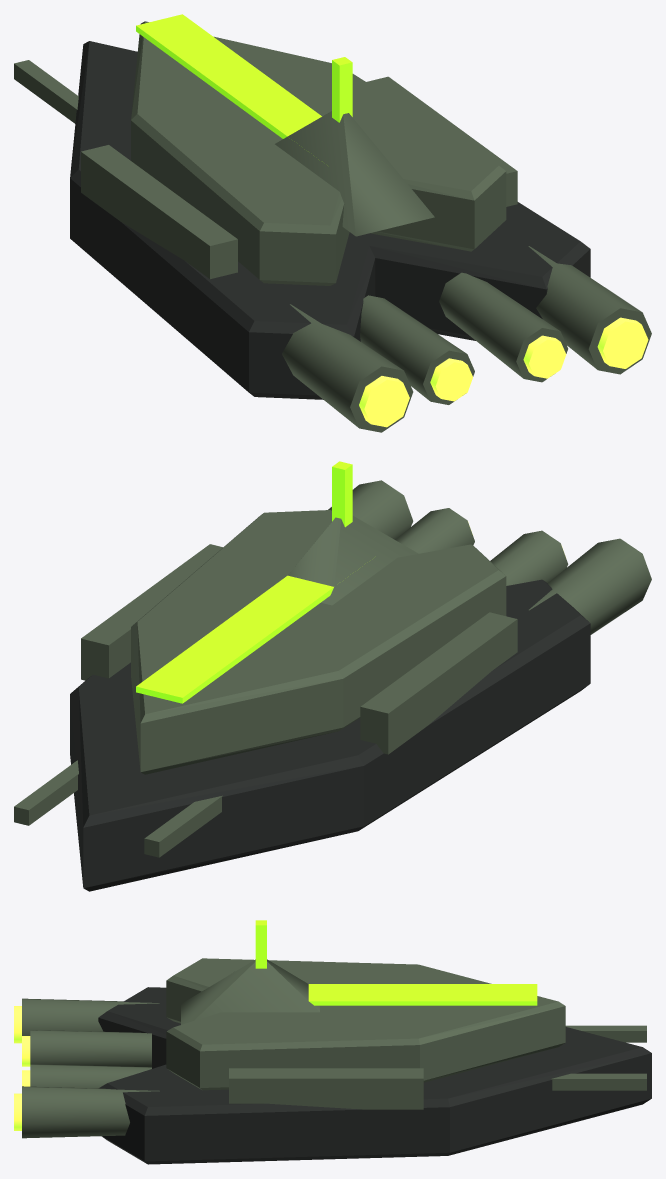
Rendered from Frigate.glb.
3 renders of one model, top to bottom at view 1: azimuth 30°, elevation 25°; view 2: azimuth 150°, elevation 25°; view 3: azimuth 270°, elevation 25°, orthographic. The views are drawn at different scales.
Visible parts, largest first — view 1: frigate_spine, frigate_hull, frigate_engine_o_nacelle (×2), frigate_battery (×2), frigate_engine_i_nacelle (×2), frigate_bridge, frigate_dorsal, frigate_engine_o_bell (×2), frigate_engine_i_bell (×2), frigate_lance, frigate_sensor; view 2: frigate_hull, frigate_spine, frigate_battery (×2), frigate_engine_o_nacelle (×2), frigate_dorsal, frigate_bridge, frigate_engine_i_nacelle (×2), frigate_lance (×2), frigate_sensor; view 3: frigate_hull, frigate_spine, frigate_engine_o_nacelle (×2), frigate_battery, frigate_engine_i_nacelle (×2), frigate_dorsal, frigate_bridge, frigate_lance (×2), frigate_sensor.
Boxes of the visible parts, x1=… form: frigate_spine: x1=131, y1=21, x2=506, y2=285; frigate_hull: x1=70, y1=41, x2=590, y2=399; frigate_engine_o_nacelle (×2): x1=282, y1=246, x2=651, y2=432; frigate_battery (×2): x1=81, y1=76, x2=517, y2=279; frigate_engine_i_nacelle (×2): x1=360, y1=272, x2=568, y2=404; frigate_bridge: x1=275, y1=111, x2=434, y2=236; frigate_dorsal: x1=136, y1=14, x2=321, y2=138; frigate_engine_o_bell (×2): x1=359, y1=317, x2=648, y2=427; frigate_engine_i_bell (×2): x1=430, y1=335, x2=566, y2=401; frigate_lance: x1=14, y1=60, x2=78, y2=123; frigate_sensor: x1=332, y1=57, x2=352, y2=122; frigate_hull: x1=70, y1=579, x2=590, y2=891; frigate_spine: x1=131, y1=510, x2=506, y2=774; frigate_battery (×2): x1=81, y1=544, x2=517, y2=754; frigate_engine_o_nacelle (×2): x1=328, y1=480, x2=651, y2=634; frigate_dorsal: x1=136, y1=575, x2=333, y2=703; frigate_bridge: x1=288, y1=516, x2=418, y2=605; frigate_engine_i_nacelle (×2): x1=395, y1=508, x2=568, y2=585; frigate_lance (×2): x1=14, y1=760, x2=222, y2=857; frigate_sensor: x1=332, y1=461, x2=352, y2=527; frigate_hull: x1=98, y1=987, x2=651, y2=1164; frigate_spine: x1=166, y1=958, x2=565, y2=1090; frigate_engine_o_nacelle (×2): x1=22, y1=998, x2=159, y2=1138; frigate_battery: x1=229, y1=1068, x2=423, y2=1109; frigate_engine_i_nacelle (×2): x1=30, y1=1030, x2=151, y2=1088; frigate_dorsal: x1=308, y1=984, x2=537, y2=1005; frigate_bridge: x1=181, y1=959, x2=319, y2=1024; frigate_lance (×2): x1=551, y1=1025, x2=646, y2=1090; frigate_sensor: x1=255, y1=920, x2=266, y2=968.
Bounding box in the file's own units: 20.81 × 14.02 × 44.63.
